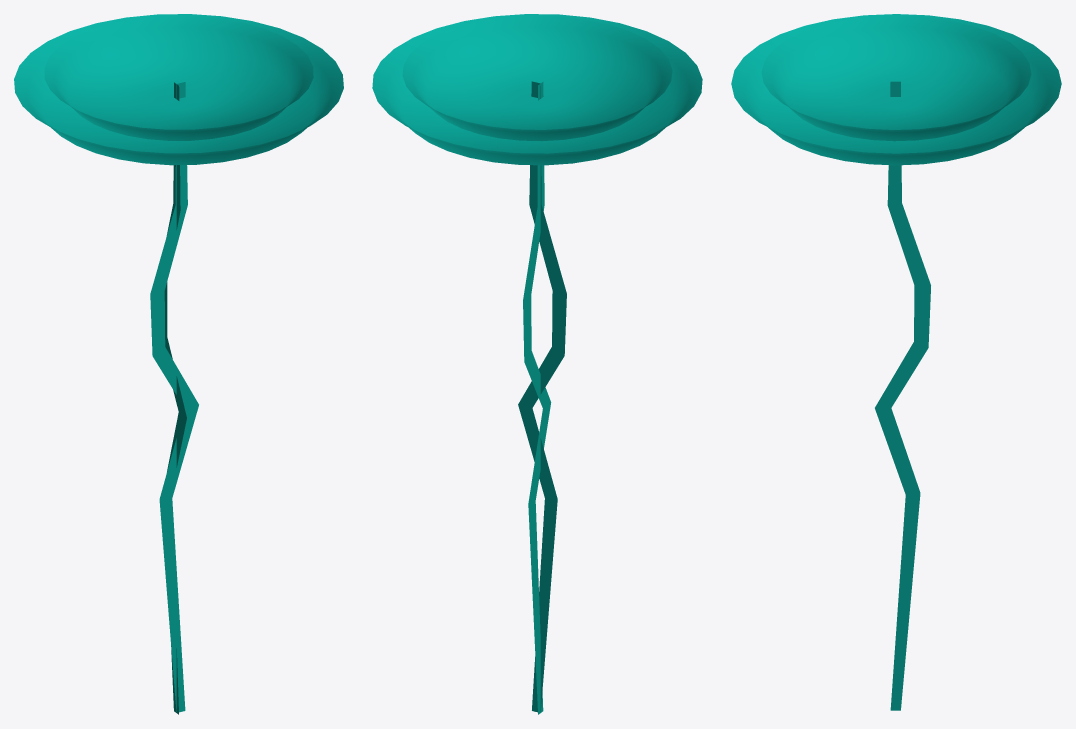
The model's file is SM_nenuphar.fbx.
The picture shows the model from 3 angles, left to right: view 1: azimuth 30°, elevation 25°; view 2: azimuth 150°, elevation 25°; view 3: azimuth 270°, elevation 25°; orthographic projection.
Visible parts, largest first — view 1: Plane429; view 2: Plane429; view 3: Plane429.
Part boxes in pixels (x1,y1,x2,y2): Plane429: (14,14,343,714); Plane429: (372,14,702,714); Plane429: (731,14,1061,710).
Size of the model in its own units: 56.67 by 121 by 56.67.
